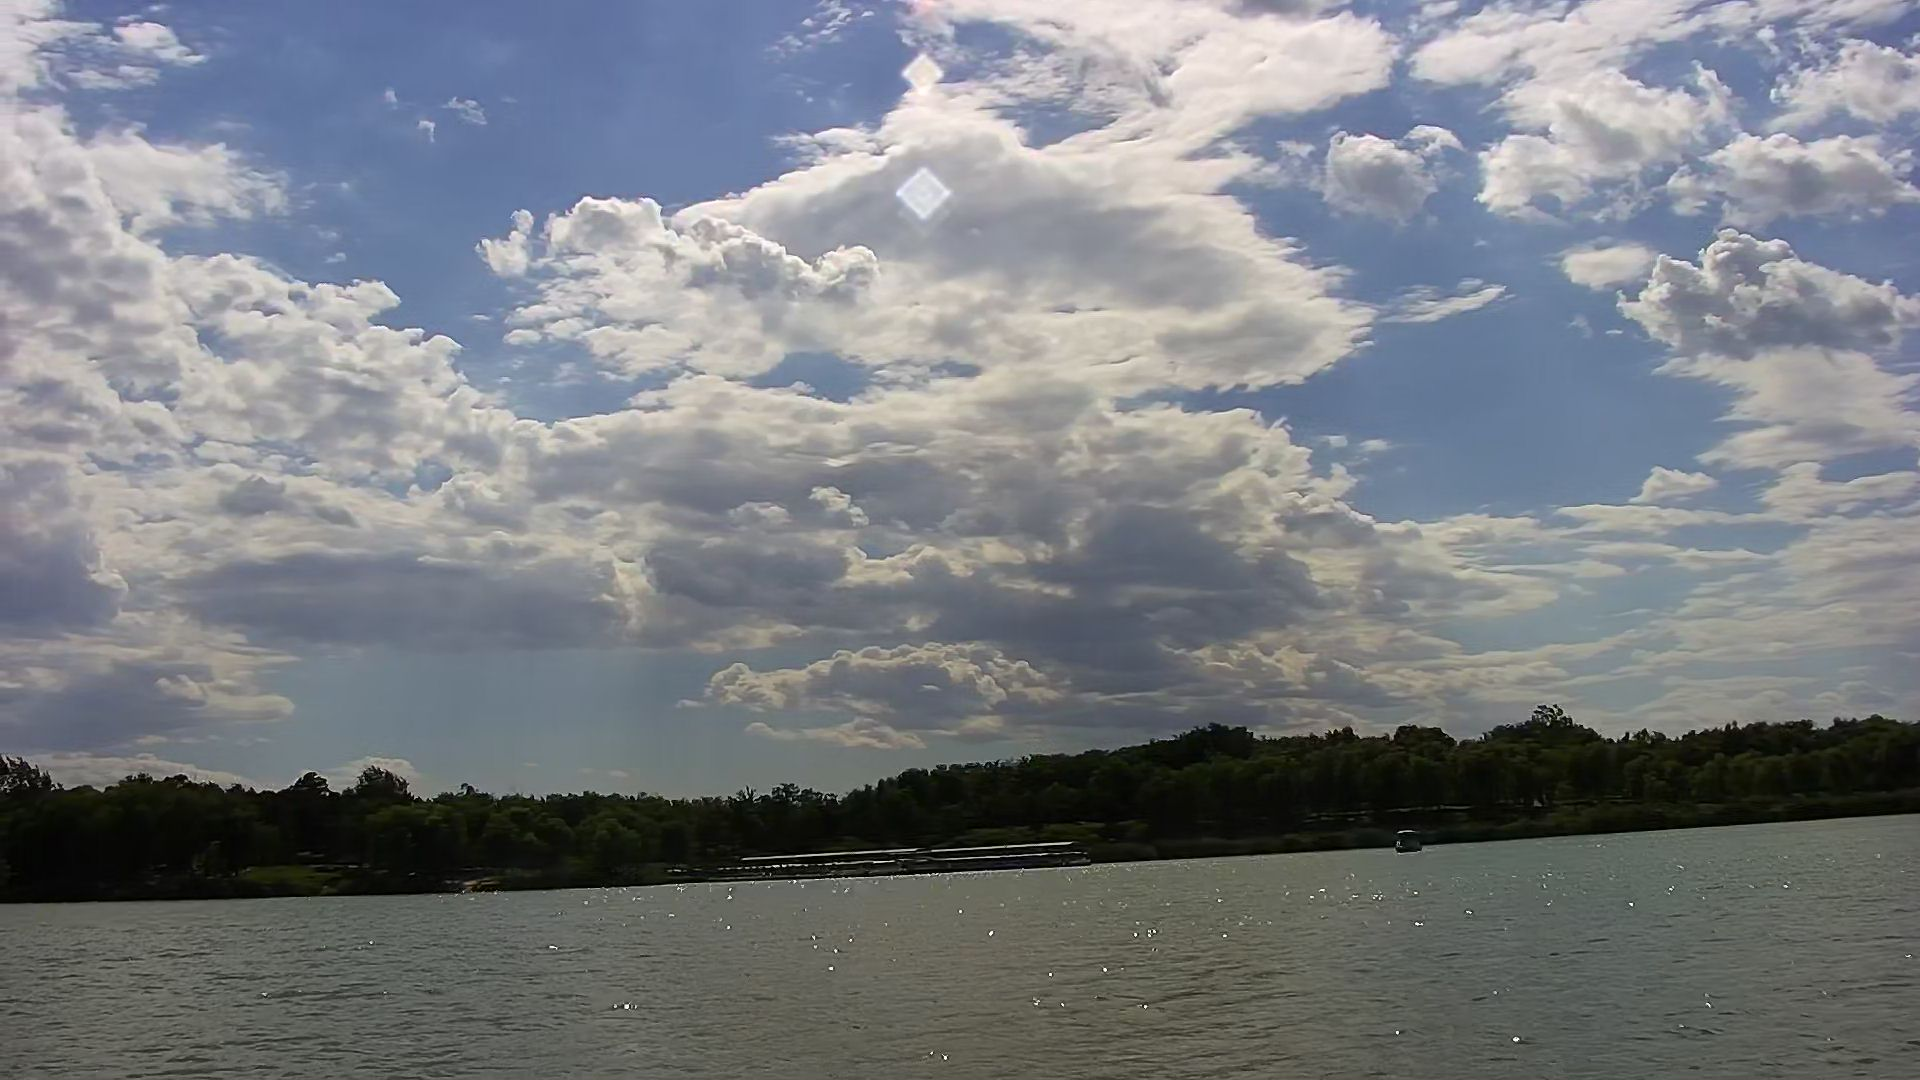boat: (1390, 823, 1427, 858)
harbor: (733, 835, 1091, 884)
